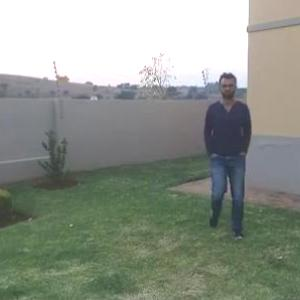follow: (201, 68, 256, 229)
